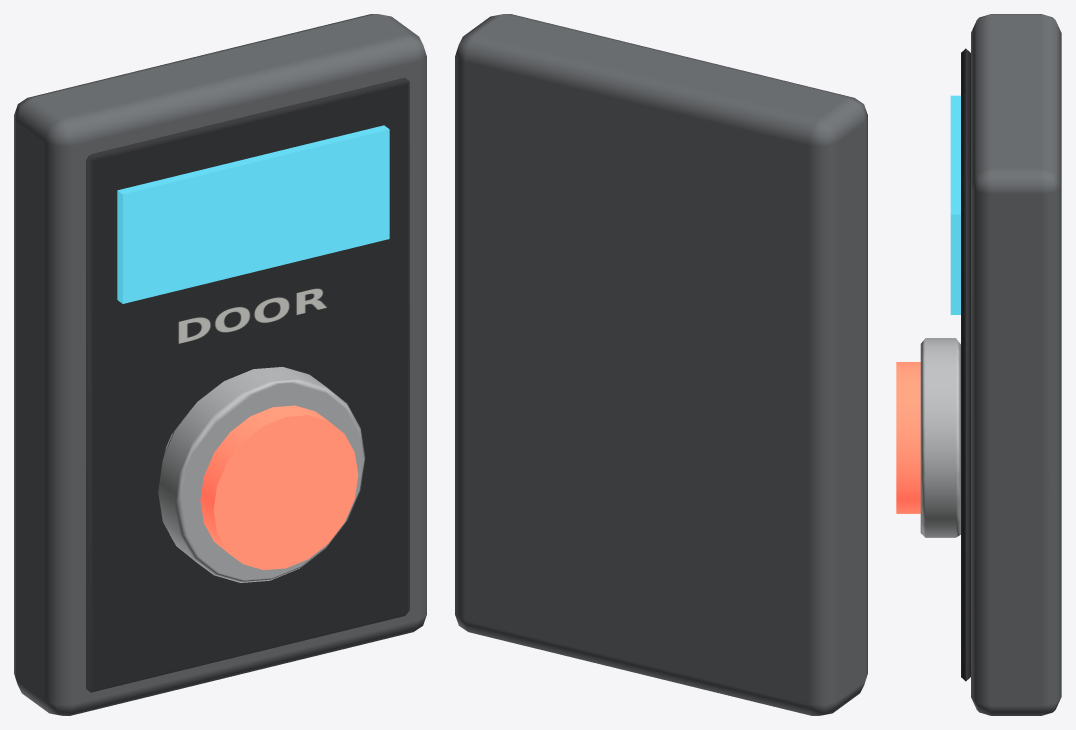
File: door_panel.glb
3 views of the same model, side by side, from view 1: azimuth 30°, elevation 25°; view 2: azimuth 150°, elevation 25°; view 3: azimuth 270°, elevation 25° (orthographic). The views are drawn at different scales.
Parts seen in each view (by area): view 1: door_panel; view 2: door_panel; view 3: door_panel.
Boxes of the visible parts, bbox=[...] form: door_panel: bbox=[14, 14, 426, 715]; door_panel: bbox=[455, 14, 867, 715]; door_panel: bbox=[896, 14, 1061, 715].
Bounding box in the file's own units: 0.2 × 0.3 × 0.082.
Materials: 6 (1 with a texture image).
